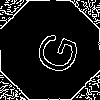G: (25, 25, 82, 79)
